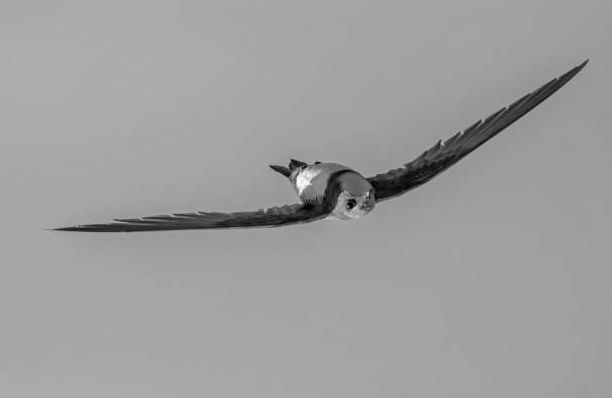Bird: (40, 56, 593, 236)
